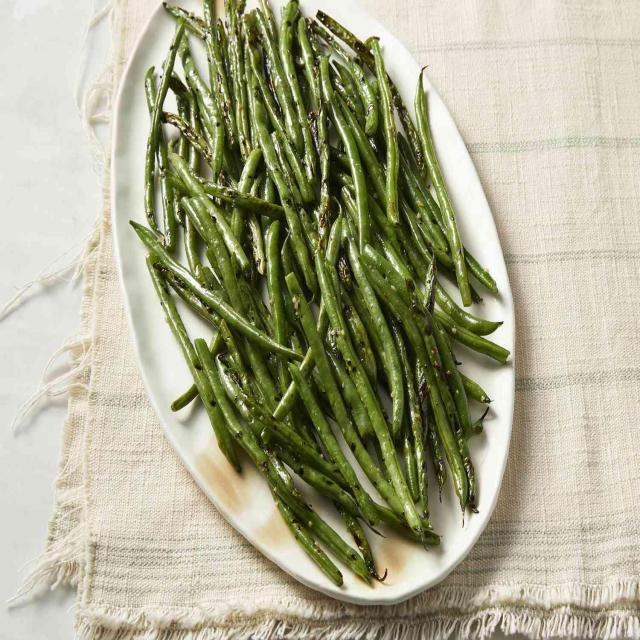Beans: (120, 0, 515, 596)
